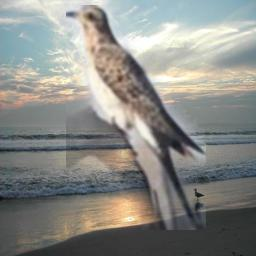Cuckoo: (66, 5, 206, 230)
